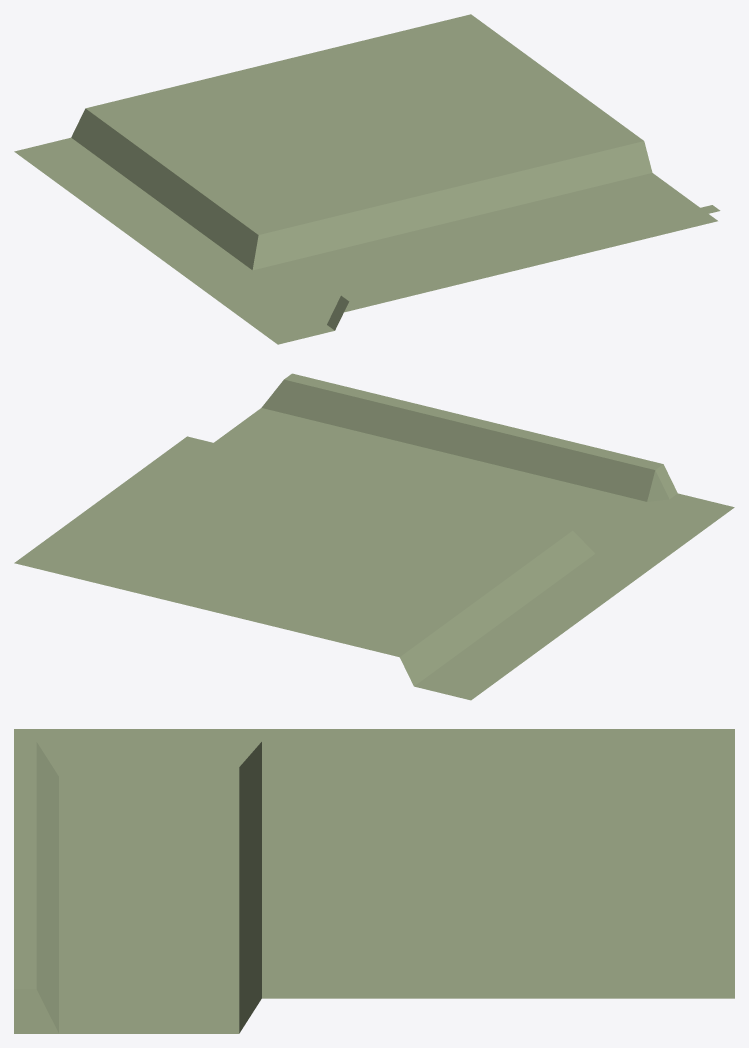
The model's file is canal-1-1.glb.
The picture shows the model from 3 angles, top to bottom: view 1: azimuth 30°, elevation 25°; view 2: azimuth 150°, elevation 25°; view 3: azimuth 270°, elevation 25°; orthographic projection. The views are drawn at different scales.
Parts seen in each view (by area): view 1: canal-1-1; view 2: canal-1-1; view 3: canal-1-1.
Part boxes in pixels (x1,y1,x2,y2): canal-1-1: [14, 14, 720, 344]; canal-1-1: [14, 373, 734, 700]; canal-1-1: [14, 729, 734, 1033].
Bounding box in the file's own units: 128 × 6.9 × 128.
